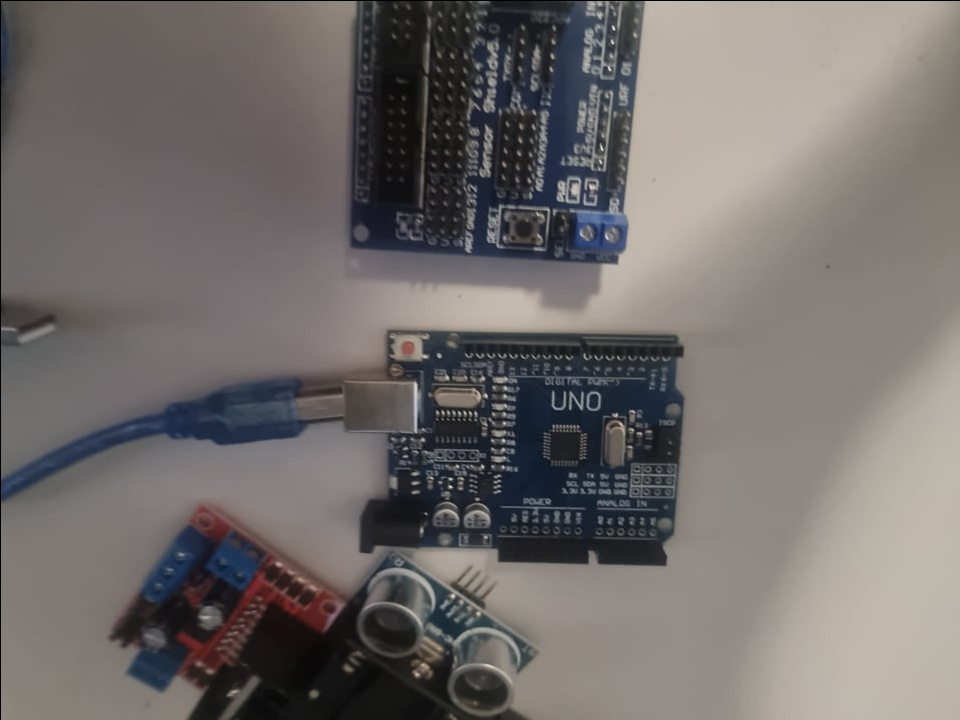5V EXPANSION: (351, 0, 646, 266)
MOTOR: (104, 497, 338, 717)
SENSOR: (350, 556, 537, 714)
UNO R3: (338, 320, 692, 576)
